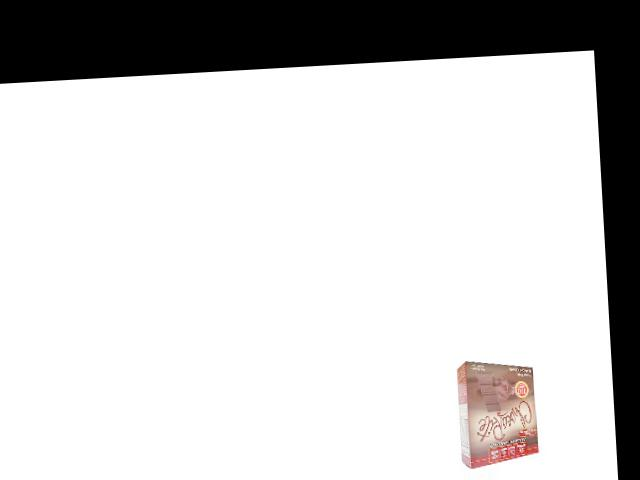chocolate: (456, 357, 541, 466)
